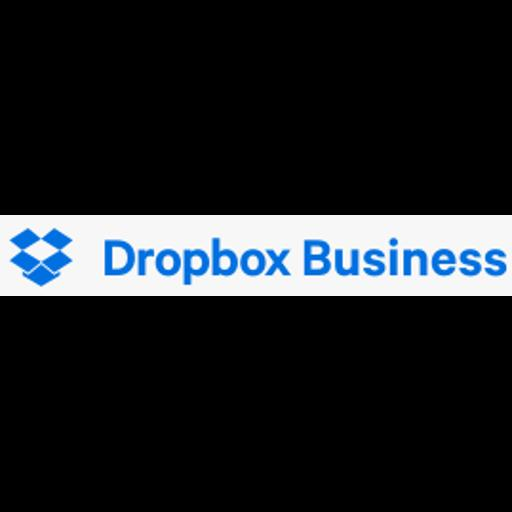Dropbox: (0, 215, 512, 296)
